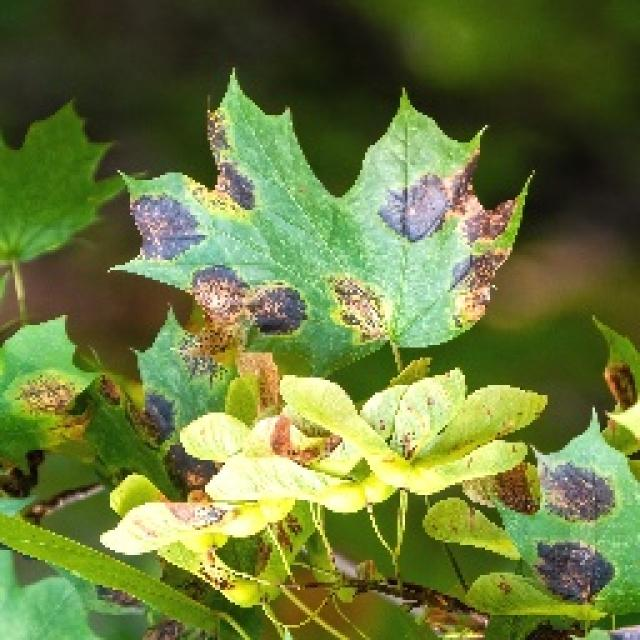Tar_Spot: (62, 120, 640, 640), (465, 403, 637, 635)
